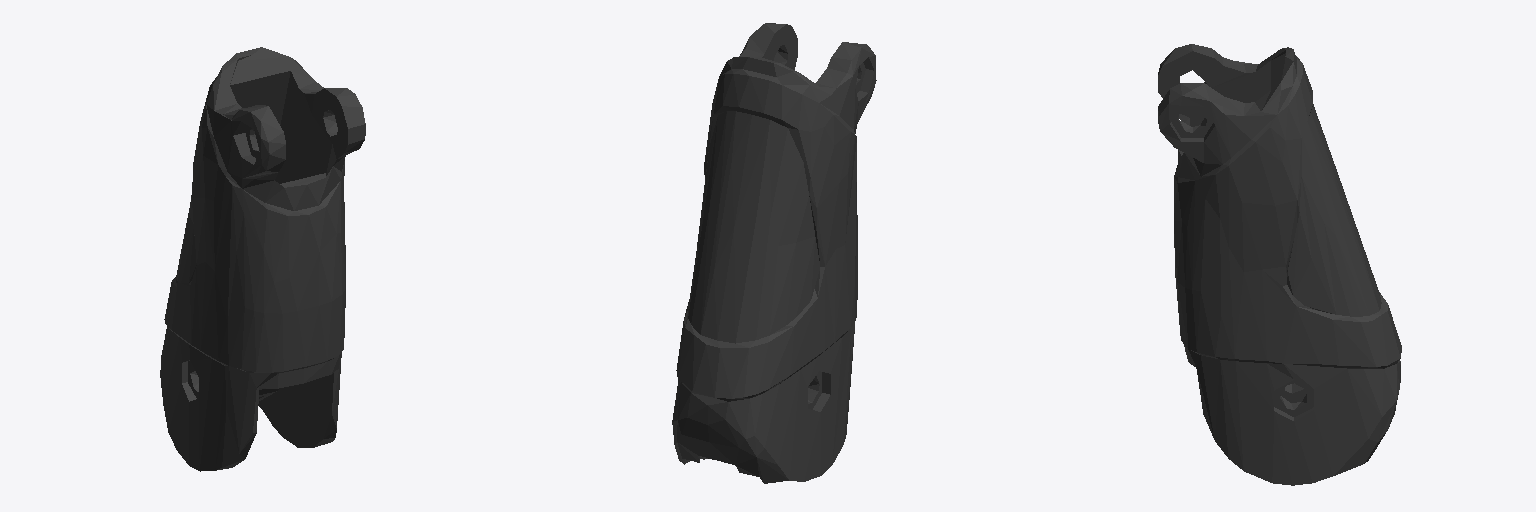
Rendered from R_index_proximal.obj.
3 renders of one model, left to right at view 1: azimuth 30°, elevation 25°; view 2: azimuth 150°, elevation 25°; view 3: azimuth 270°, elevation 25°, orthographic.
Size of the model in its own units: 0.0143 by 0.0448 by 0.0247.